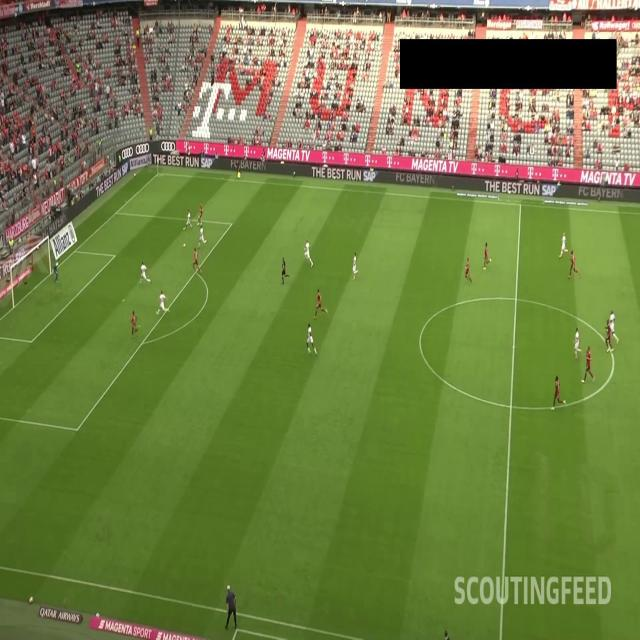ball: (183, 240, 187, 250)
player: (580, 344, 595, 382), (551, 373, 566, 409), (313, 287, 328, 322), (128, 308, 142, 340), (306, 322, 318, 356), (609, 309, 620, 345), (138, 259, 152, 287), (156, 288, 170, 315), (604, 317, 614, 353), (482, 240, 493, 271), (568, 249, 580, 277), (191, 246, 202, 276), (573, 326, 583, 359), (560, 230, 570, 259), (182, 208, 194, 232), (302, 240, 313, 266), (197, 225, 208, 250), (463, 254, 472, 284), (351, 252, 359, 282), (52, 259, 61, 284), (197, 199, 205, 227)
referee: (280, 256, 290, 285), (235, 152, 242, 180)
